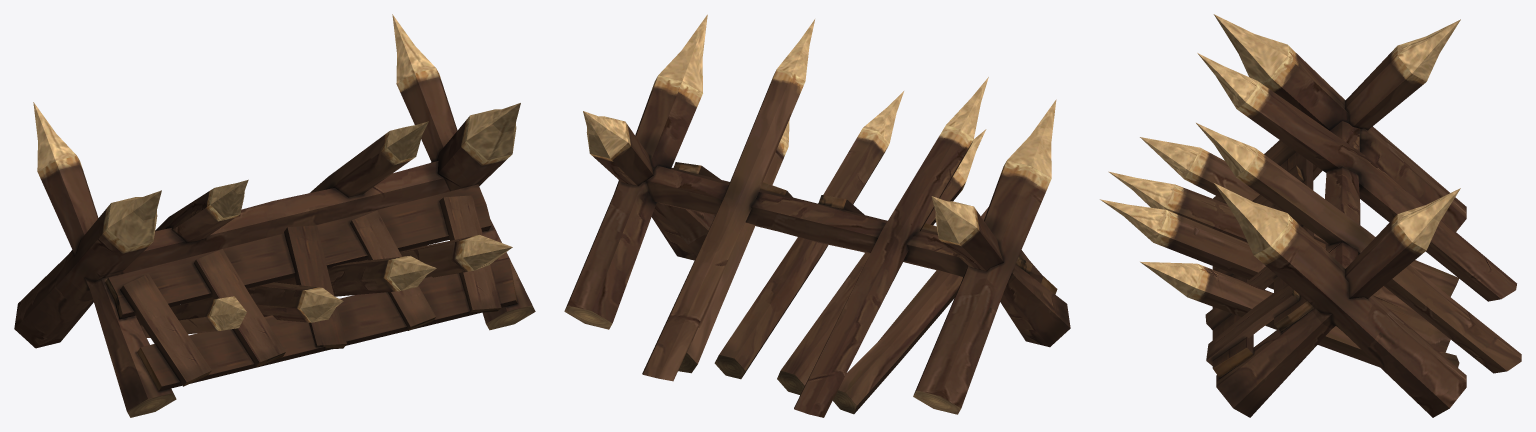
The model's file is barricade_b.FBX.
3 renders of one model, left to right at view 1: azimuth 30°, elevation 25°; view 2: azimuth 150°, elevation 25°; view 3: azimuth 270°, elevation 25°, orthographic. The views are drawn at different scales.
Parts seen in each view (by area): view 1: barricade_b; view 2: barricade_b; view 3: barricade_b.
Part boxes in pixels (box(x1,y1,x2,y2)): barricade_b: box(14, 14, 535, 417); barricade_b: box(564, 14, 1070, 417); barricade_b: box(1100, 14, 1521, 417).
Bounding box in the file's own units: 79.62 × 50.33 × 73.98.
